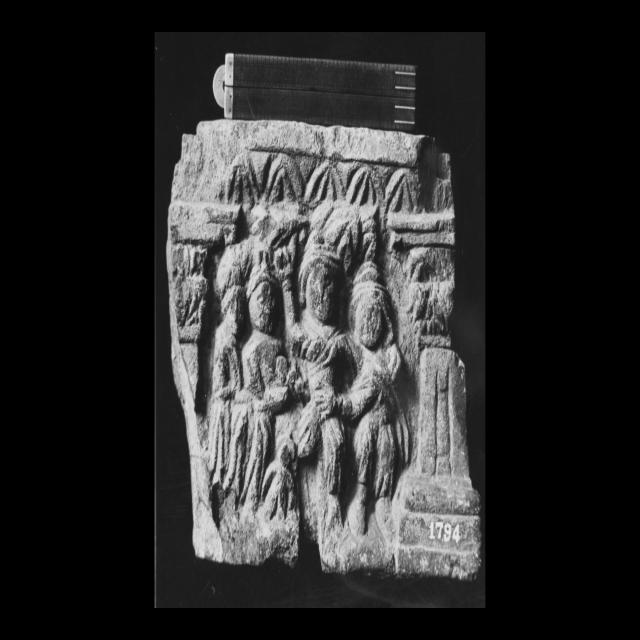buddha-standing: (285, 231, 355, 523)
